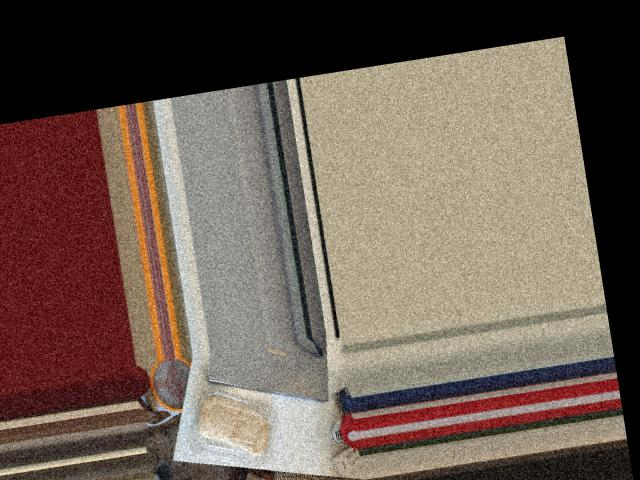cheese: (175, 378, 287, 476)
